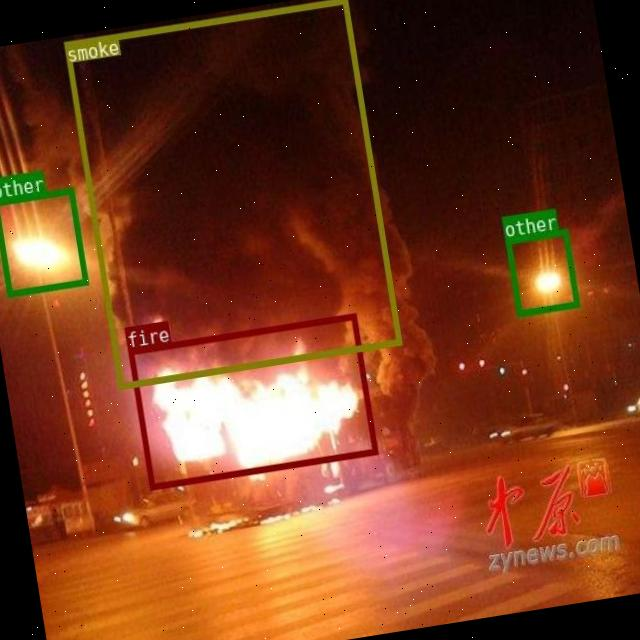fire: (128, 312, 376, 488)
smoke: (63, 0, 400, 388)
